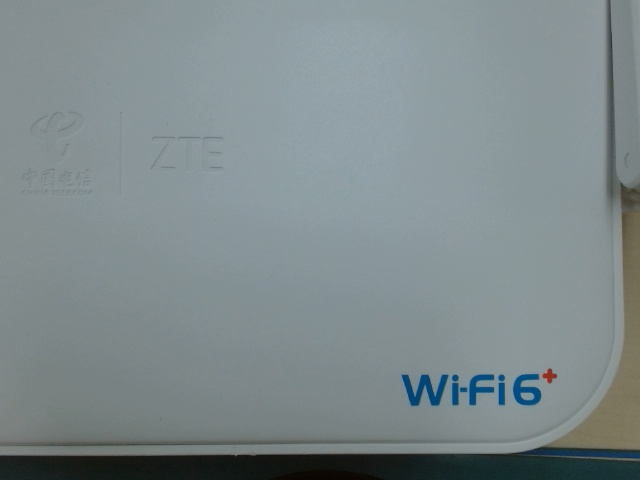AJ_ZTEWIFI6Plus: (392, 360, 566, 417)
